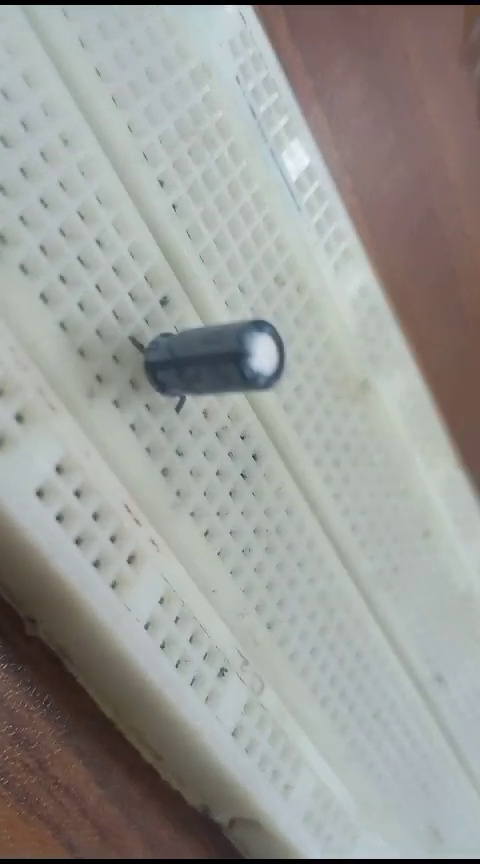capacitor: (135, 303, 287, 421)
